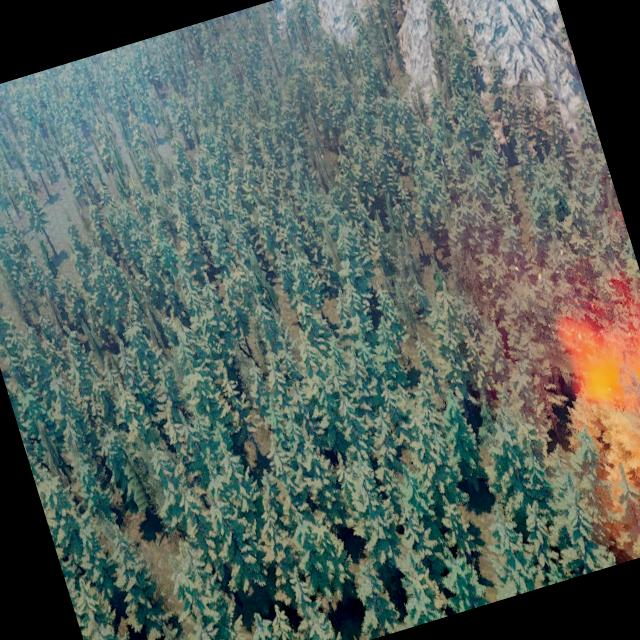fire: (553, 291, 640, 434)
smoke: (440, 191, 640, 586)
